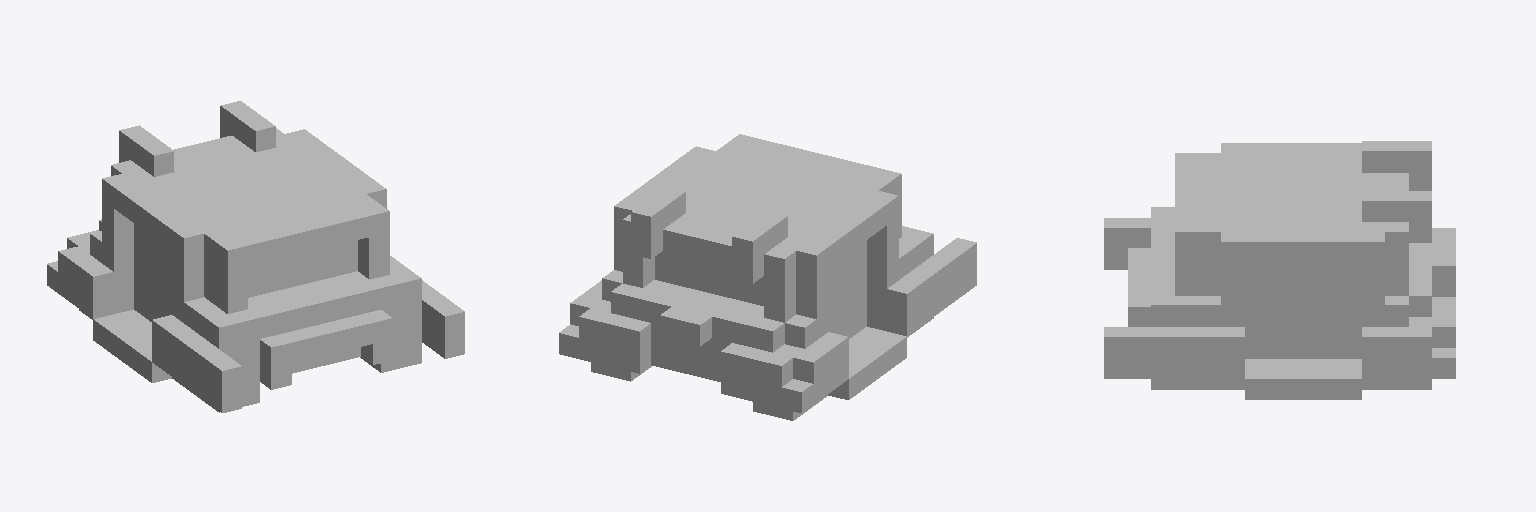
File: car1.obj
The picture shows the model from 3 angles: view 1: azimuth 30°, elevation 25°; view 2: azimuth 150°, elevation 25°; view 3: azimuth 270°, elevation 25°; orthographic projection.
Parts seen in each view (by area): view 1: car1; view 2: car1; view 3: car1.
Boxes of the visible parts, x1=… form: car1: x1=47, y1=101, x2=464, y2=412; car1: x1=559, y1=134, x2=976, y2=420; car1: x1=1104, y1=141, x2=1455, y2=399.
Size of the model in its own units: 12 by 8 by 15.